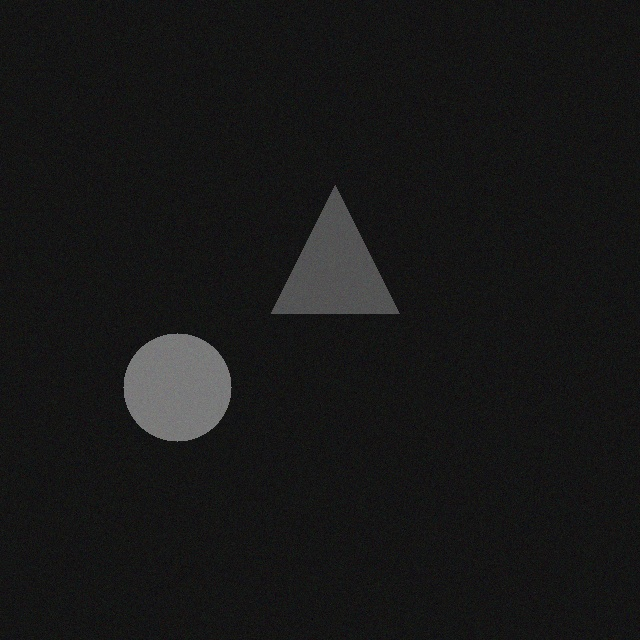circle: (115, 338, 223, 446)
triangle: (263, 190, 391, 318)
